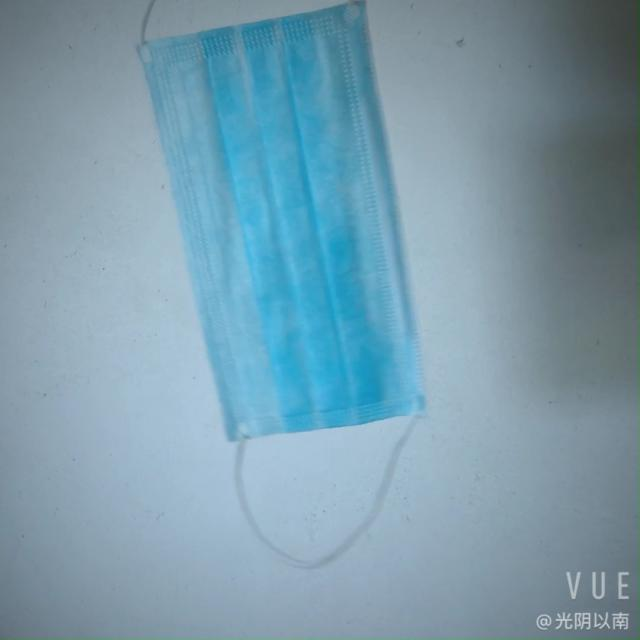face mask: (124, 7, 438, 447)
